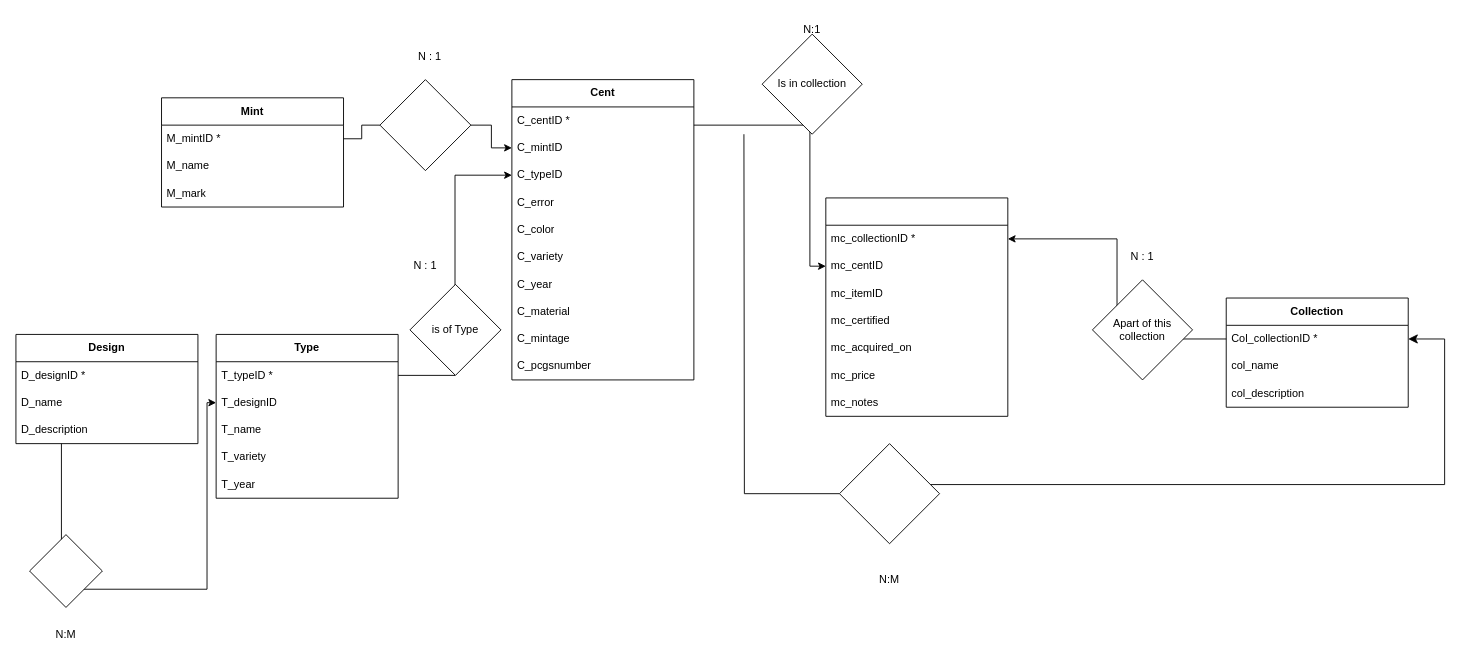
This 1470x668 diagram has some shape labels left out. The shapes that lost their labels are listed below. From the top down, each one's box as (x1, y1, x2, y2) in pixels, then its label:
(379, 79, 471, 171): Produced
(825, 197, 1008, 416): My Collection
(839, 443, 940, 544): targets this coin
(29, 534, 102, 607): design type
